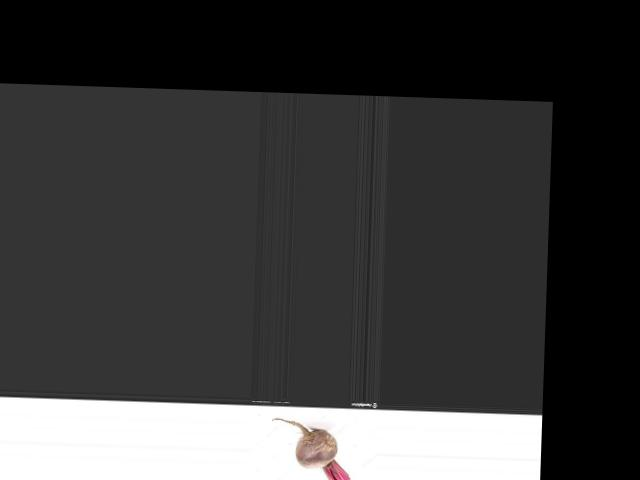beet: (269, 417, 351, 480)
